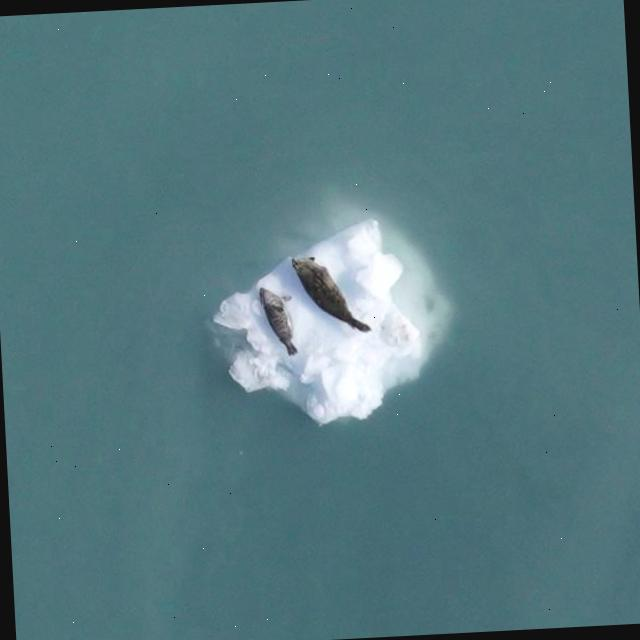seal: (292, 257, 371, 333), (261, 289, 299, 356)
